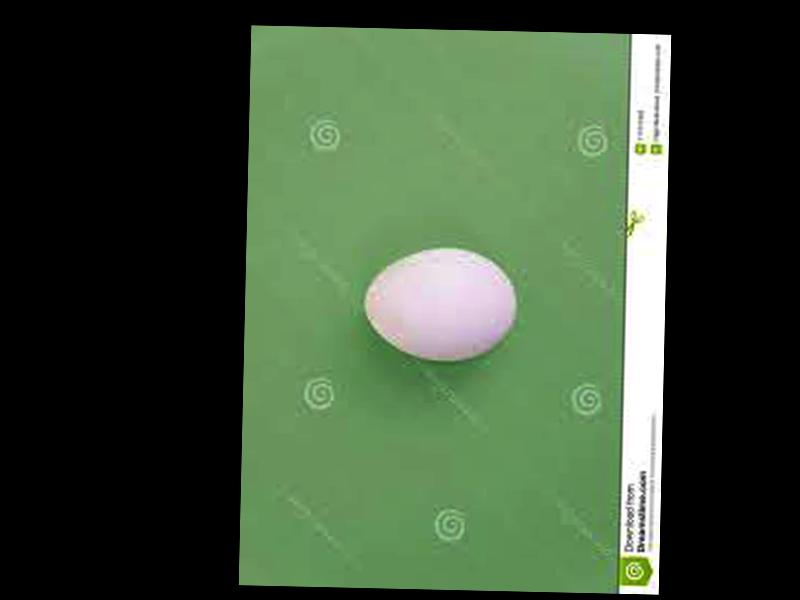Eggs: (365, 248, 517, 364)
